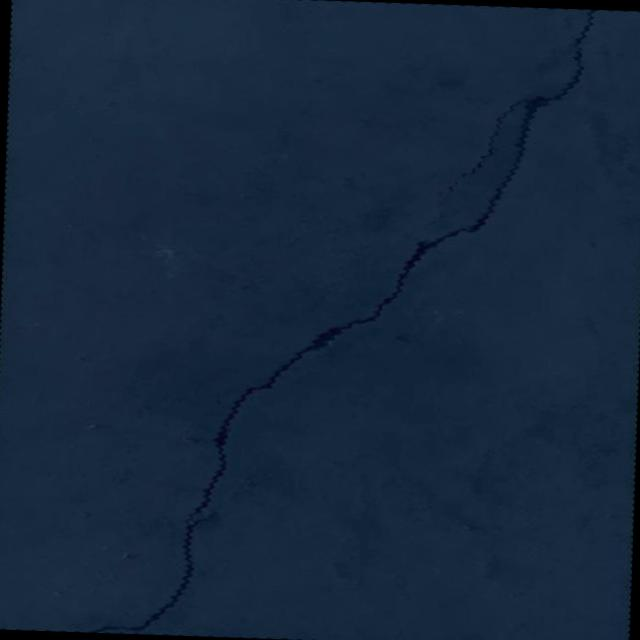crack: (92, 0, 595, 640)
